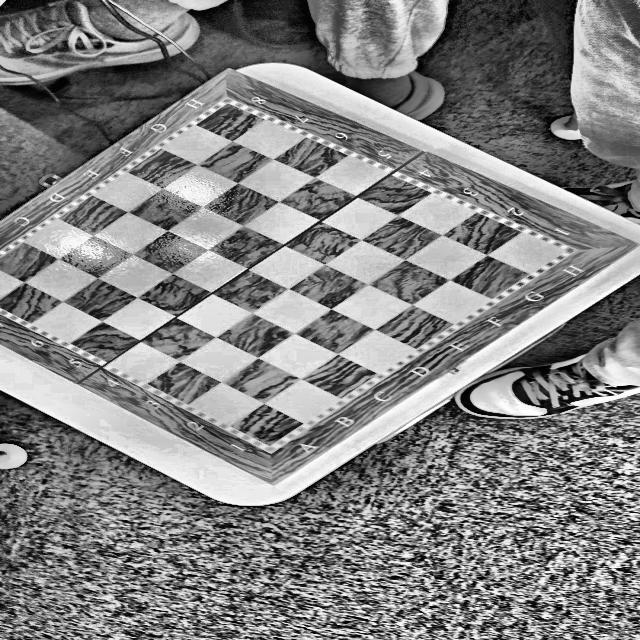chessboard: (2, 70, 640, 484)
